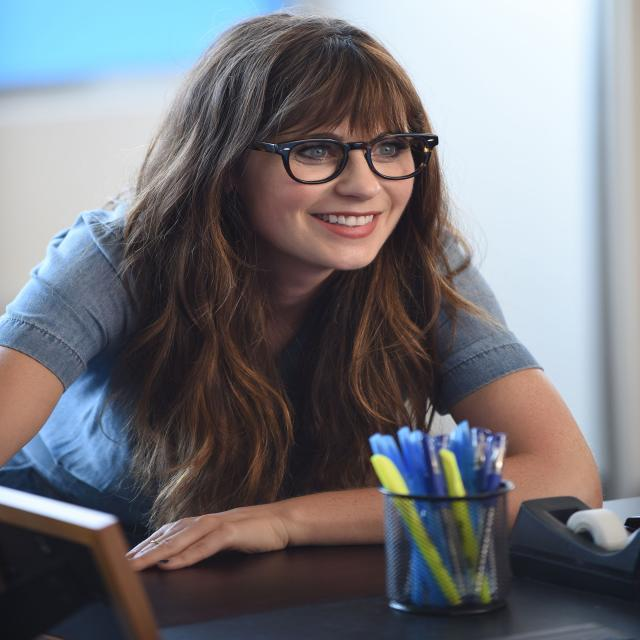human: (22, 9, 609, 640)
